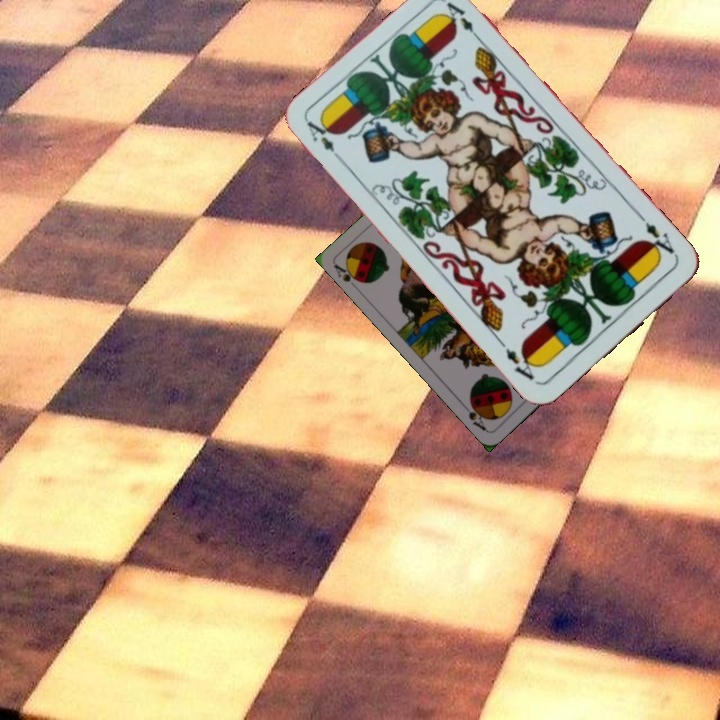EA: (302, 115, 347, 166), (636, 212, 680, 260)
SA: (330, 259, 367, 287)
